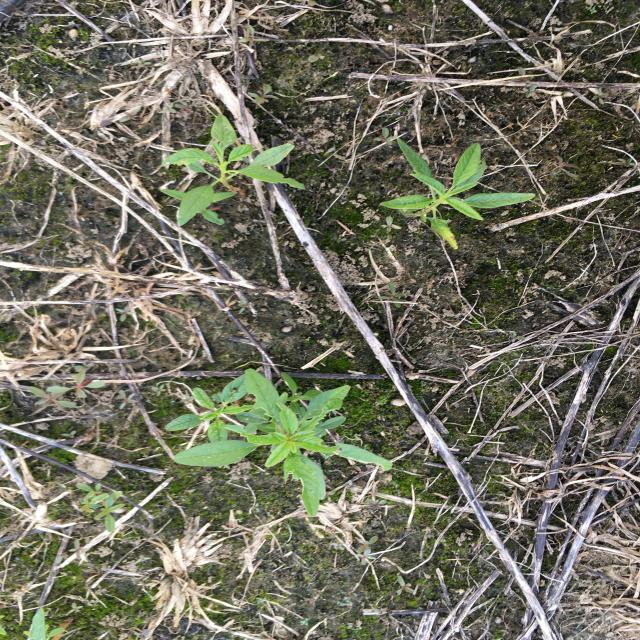Waterhemp: (162, 367, 395, 519), (379, 136, 538, 251), (159, 114, 308, 229)
